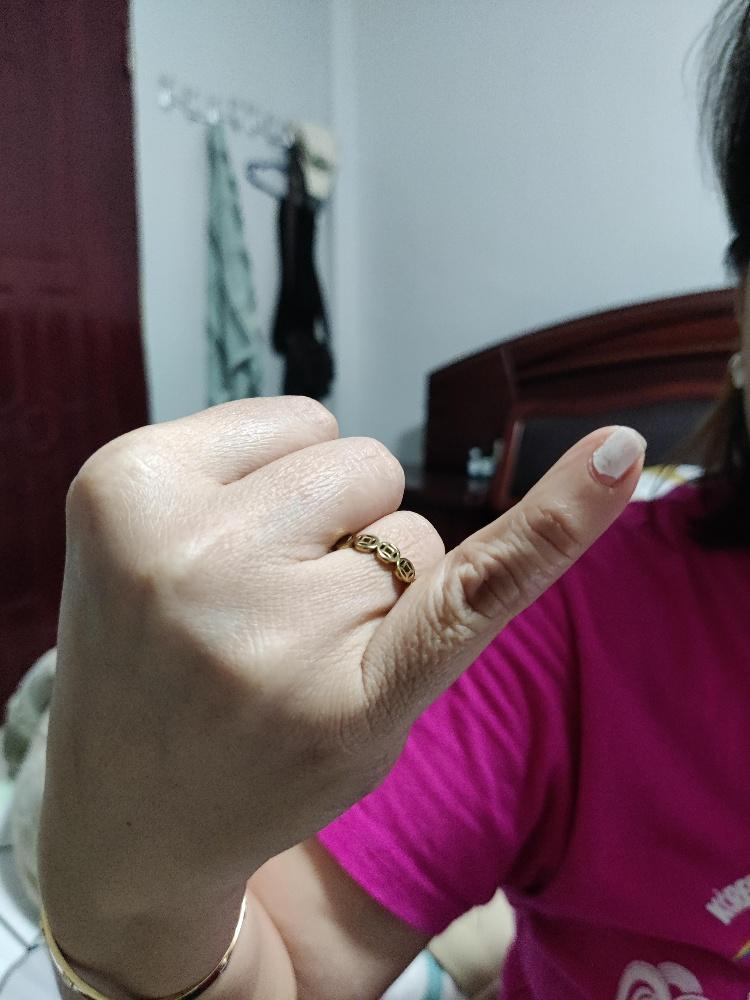j: (49, 391, 649, 965)
